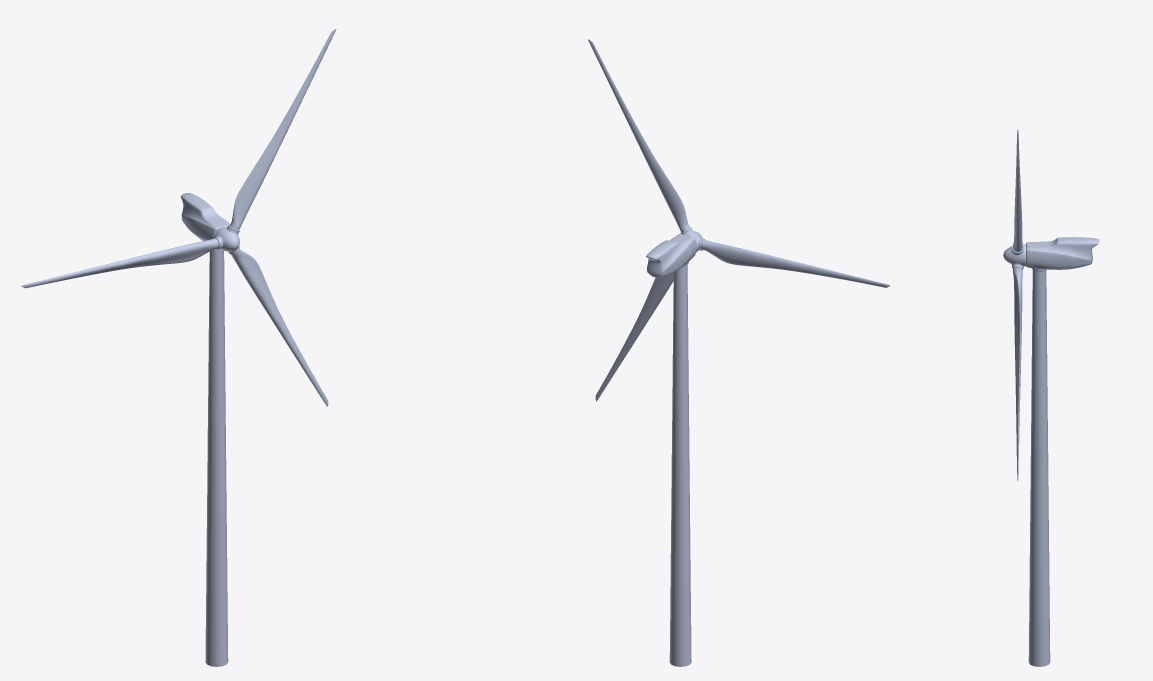
The model's file is turbineSolid.glb.
The picture shows the model from 3 angles, left to right: view 1: azimuth 30°, elevation 25°; view 2: azimuth 150°, elevation 25°; view 3: azimuth 270°, elevation 25°; orthographic projection. The views are drawn at different scales.
Parts seen in each view (by area): view 1: polySurface162, polySurface160_1, polySurface160, polySurface160_2, polySurface259; view 2: polySurface162, polySurface160, polySurface160_1, polySurface259, polySurface160_2; view 3: polySurface162, polySurface259, polySurface160_2, polySurface160_1, polySurface161.
Part boxes in pixels (x1=…): polySurface162: x1=205, y1=249, x2=228, y2=666; polySurface160_1: x1=230, y1=29, x2=336, y2=230; polySurface160: x1=21, y1=238, x2=218, y2=288; polySurface160_2: x1=231, y1=249, x2=328, y2=406; polySurface259: x1=180, y1=193, x2=230, y2=240; polySurface162: x1=669, y1=265, x2=691, y2=666; polySurface160: x1=700, y1=240, x2=889, y2=287; polySurface160_1: x1=588, y1=39, x2=689, y2=232; polySurface259: x1=646, y1=234, x2=696, y2=277; polySurface160_2: x1=595, y1=273, x2=673, y2=401; polySurface162: x1=1028, y1=270, x2=1050, y2=666; polySurface259: x1=1026, y1=237, x2=1099, y2=271; polySurface160_2: x1=1013, y1=268, x2=1022, y2=481; polySurface160_1: x1=1013, y1=130, x2=1022, y2=251; polySurface161: x1=1003, y1=244, x2=1025, y2=268.
Size of the model in its own units: 9995 by 14255 by 4089.
Materials: 1 (1 with a texture image).
